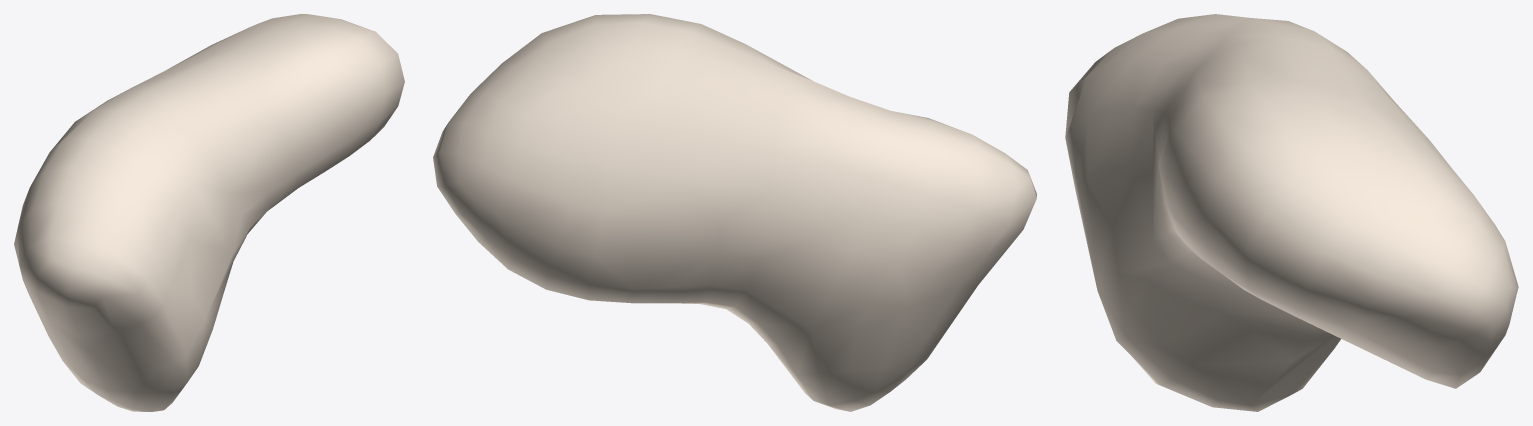
Rendered from right_scaphoid.glb.
3 renders of one model, left to right at view 1: azimuth 30°, elevation 25°; view 2: azimuth 150°, elevation 25°; view 3: azimuth 270°, elevation 25°, orthographic. The views are drawn at different scales.
Visible parts, largest first — view 1: Scaphoid.r; view 2: Scaphoid.r; view 3: Scaphoid.r.
Boxes of the visible parts, bbox=[...] form: Scaphoid.r: bbox=[14, 14, 404, 411]; Scaphoid.r: bbox=[433, 14, 1036, 411]; Scaphoid.r: bbox=[1065, 14, 1518, 411].
Size of the model in its own units: 0.0249 by 0.0172 by 0.0168.
